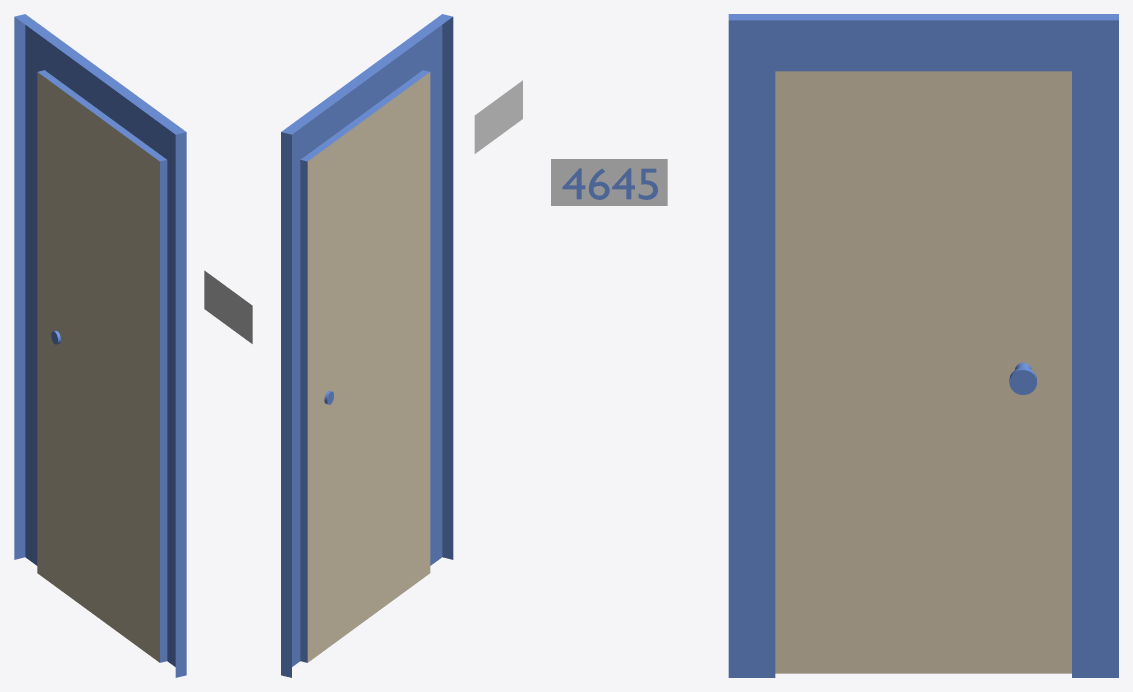
The model's file is door.fbx.
The picture shows the model from 3 angles, left to right: view 1: azimuth 30°, elevation 25°; view 2: azimuth 150°, elevation 25°; view 3: azimuth 270°, elevation 25°; orthographic projection. The views are drawn at different scales.
Parts seen in each view (by area): view 1: Cube; view 2: Cube; view 3: Cube, Text.
Part boxes in pixels (x1,y1,x2,y2): Cube: (14,14,252,677); Cube: (281,14,522,677); Cube: (551,14,1118,677); Text: (562,168,657,199).
Bounding box in the file's own units: 28.25 × 601 × 470.
